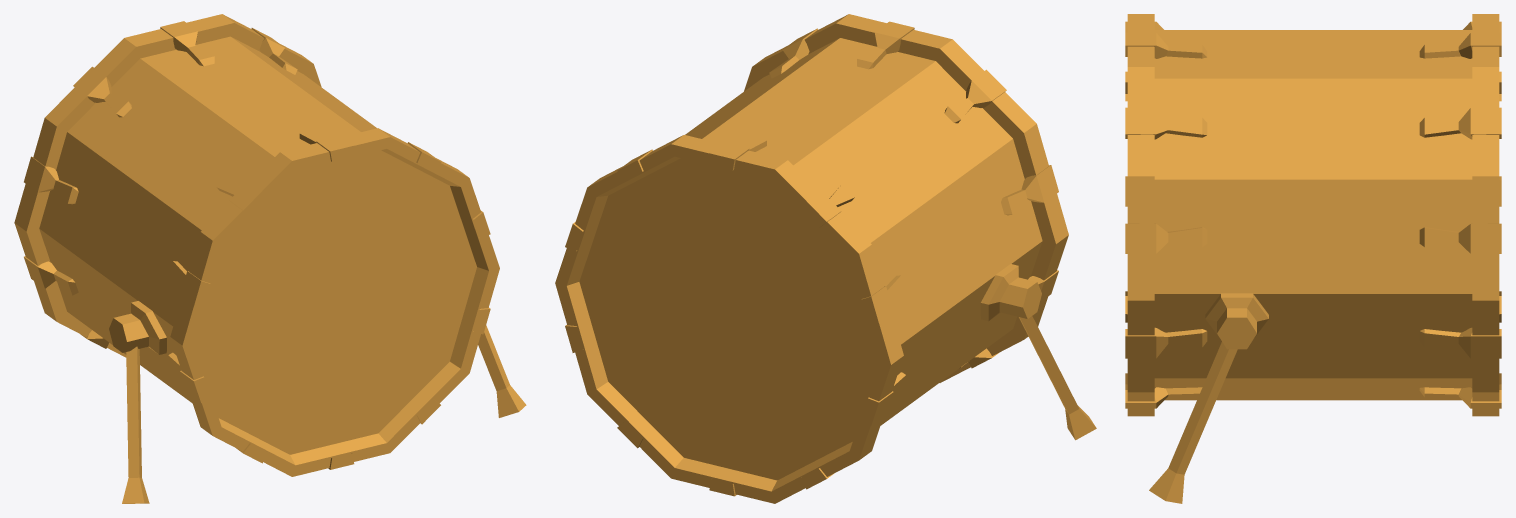
File: drum-bass.fbx
3 renders of one model, left to right at view 1: azimuth 30°, elevation 25°; view 2: azimuth 150°, elevation 25°; view 3: azimuth 270°, elevation 25°, orthographic. The views are drawn at different scales.
Visible parts, largest first — view 1: drum-bass; view 2: drum-bass; view 3: drum-bass.
Part boxes in pixels (x1=…): drum-bass: x1=14, y1=14, x2=526, y2=503; drum-bass: x1=555, y1=14, x2=1096, y2=503; drum-bass: x1=1125, y1=14, x2=1501, y2=503.
Bounding box in the file's own units: 0.7646 × 0.5921 × 0.5568.
